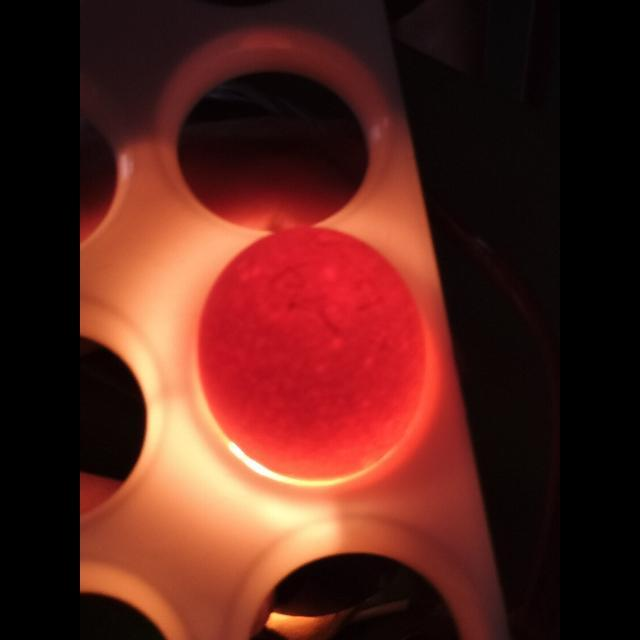Infertile: (188, 224, 438, 478)
